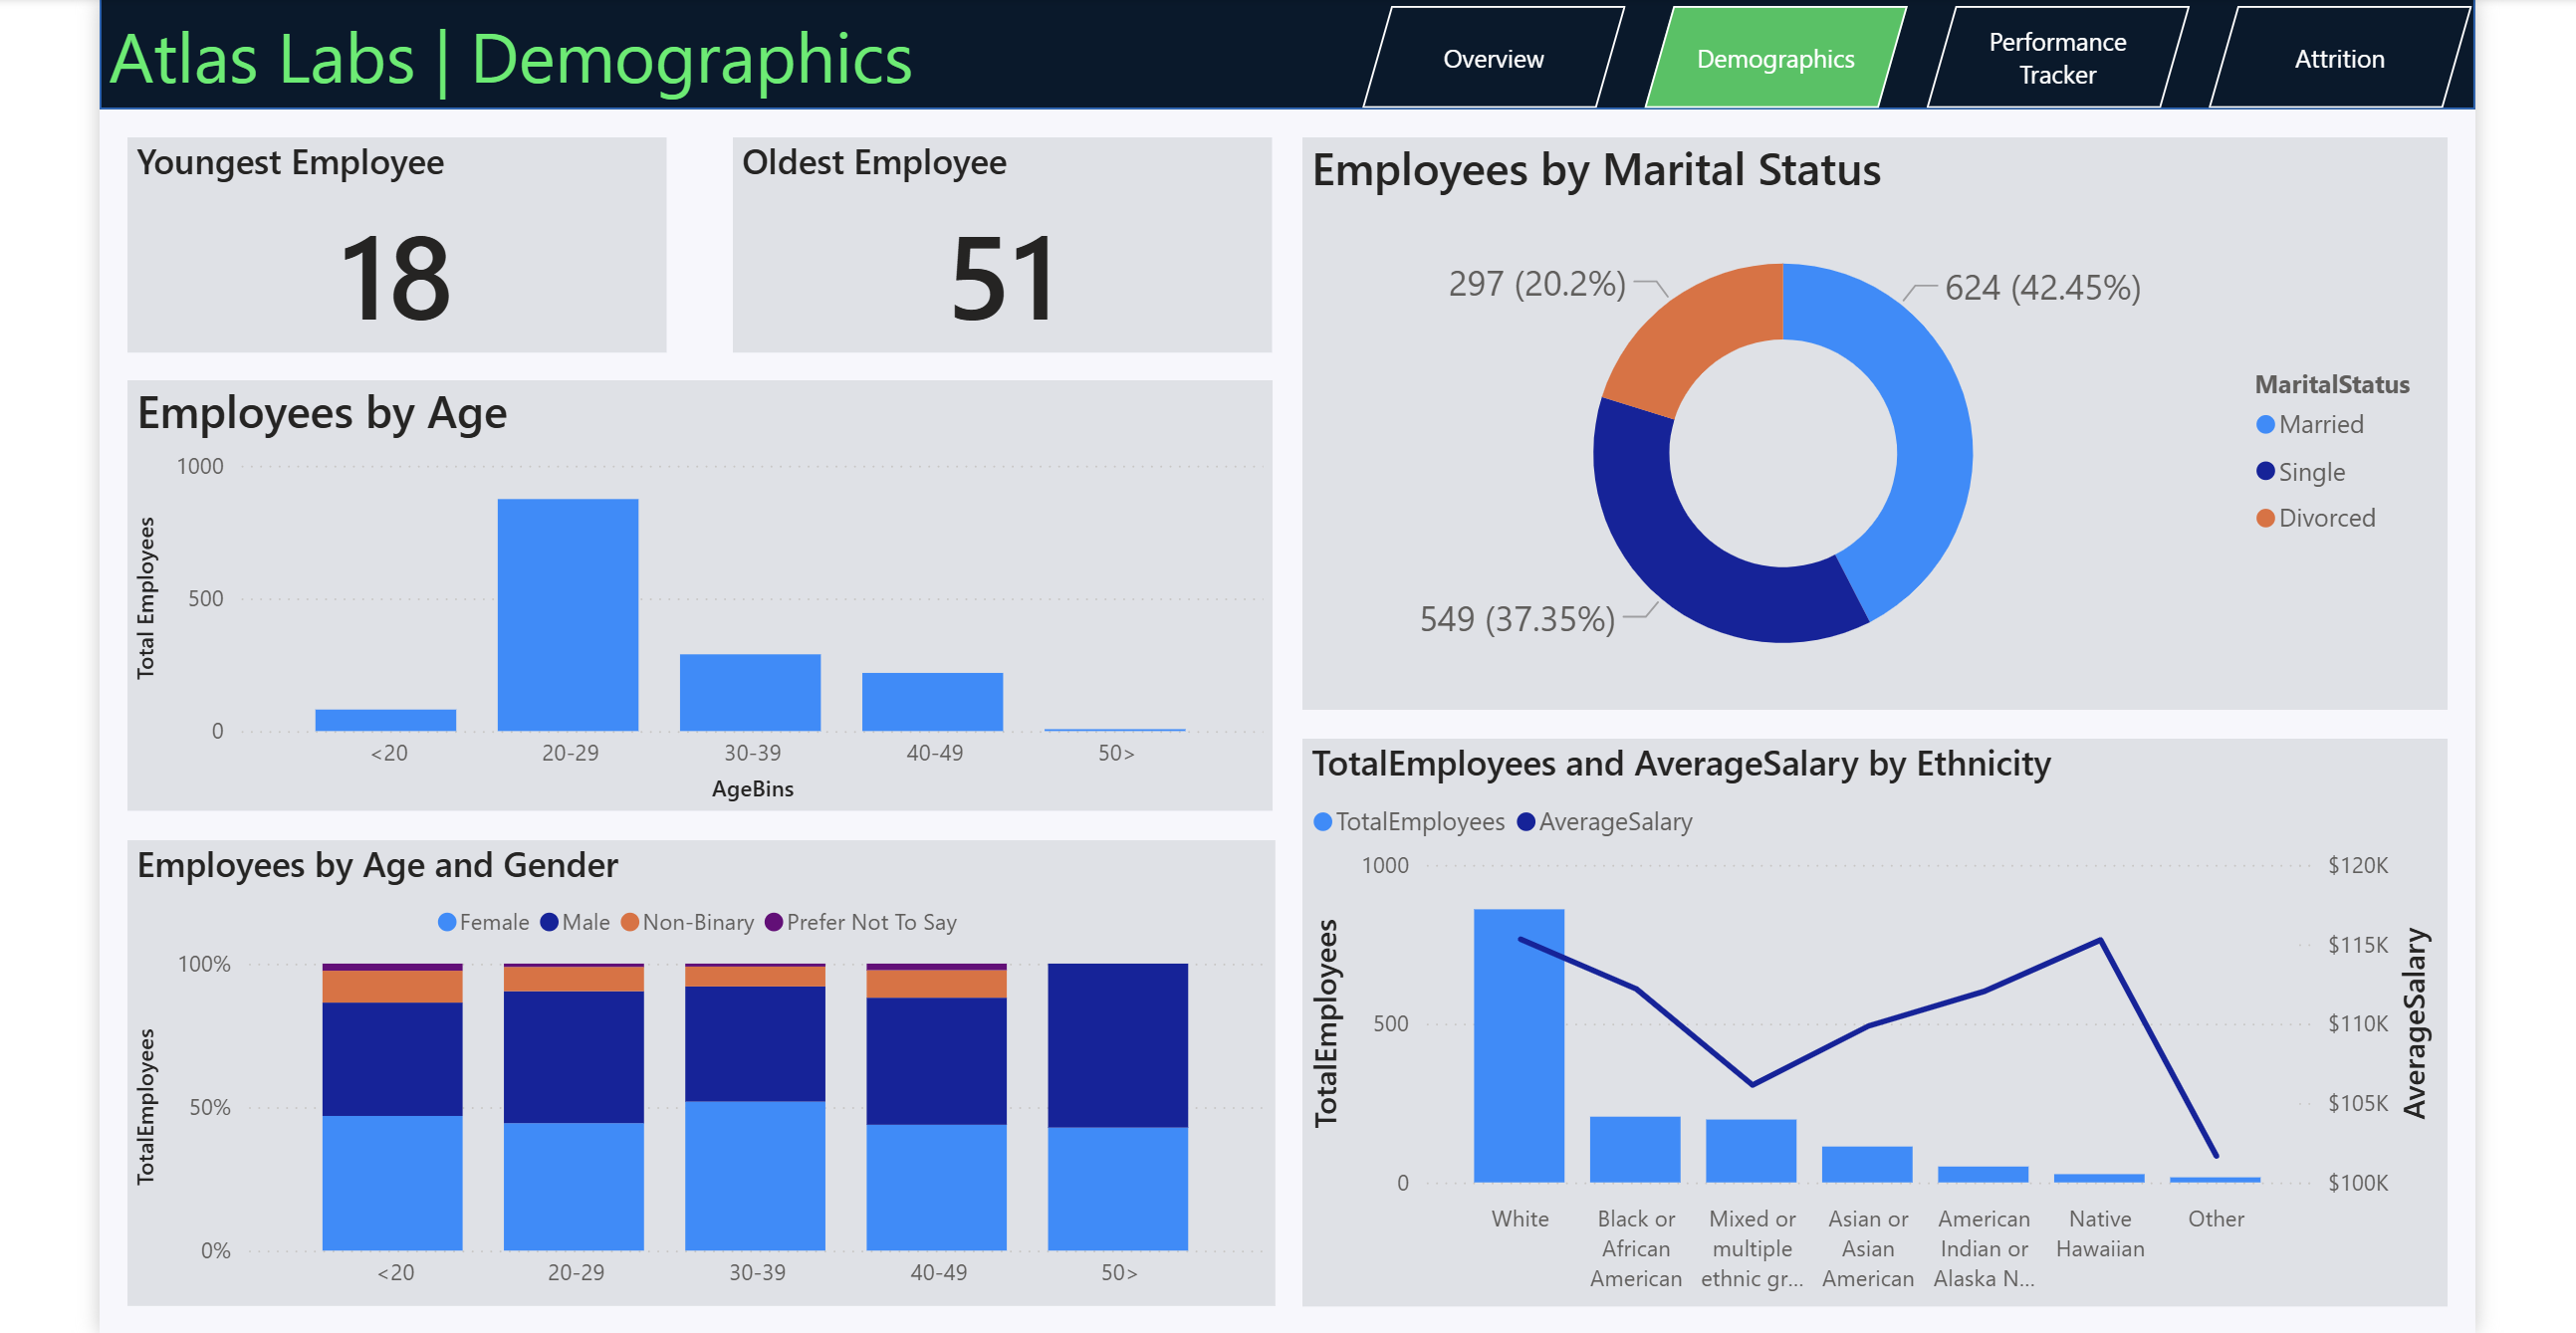

This screenshot's page, from the dashboard's own definition file:
{"tool":"powerbi","page":{"name":"Demographics","canvas":[1280,720],"ordinal":1},"visuals":[{"type":"clusteredColumnChart","title":"Employees by Age","fields":{"Y":["_Measures.TotalEmployees"],"Category":["DimEmployee.AgeBins"]},"box":[15.3,206.5,617.1,232],"z":0},{"type":"donutChart","title":"Employees by Marital Status","fields":{"Category":["DimEmployee.MaritalStatus"],"Y":["_Measures.TotalEmployees"]},"box":[647.6,75.2,617.1,308.5],"z":1000},{"type":"lineClusteredColumnComboChart","fields":{"Y":["_Measures.TotalEmployees"],"Category":["DimEmployee.Ethnicity"],"Y2":["_Measures.AverageSalary"]},"box":[647.6,399,617.1,306],"z":2000},{"type":"card","title":"Youngest Employee","fields":{"Values":["Min(DimEmployee.Age)"]},"box":[15.3,75.2,290.7,116],"z":3000},{"type":"card","title":"Oldest Employee","fields":{"Values":["Max(DimEmployee.Age)"]},"box":[341.7,75.2,290.7,116],"z":4000},{"type":"shape","box":[0,0,1280,60],"z":5000},{"type":"textbox","box":[0,0,1280,60.1],"z":6000},{"type":"hundredPercentStackedColumnChart","title":"Employees by Age and Gender","fields":{"Category":["DimEmployee.AgeBins"],"Series":["DimEmployee.Gender"],"Y":["_Measures.TotalEmployees"]},"box":[15.3,453.9,618.3,251.2],"z":7000},{"type":"pageNavigator","box":[680.1,4.5,599.9,55.7],"z":8000}]}

Visuals, with their boxes on the page's 1280x720 design canvas (x1, y1, x2, y2). These are canvas units, not pixel positions in the 2576x1333 screenshot, which may show the page scaled, cropped or inside an application window:
"Employees by Age" clusteredColumnChart: select_region(15, 206, 632, 438)
"Employees by Marital Status" donutChart: select_region(648, 75, 1265, 384)
lineClusteredColumnComboChart - _Measures.TotalEmployees x DimEmployee.Ethnicity: select_region(648, 399, 1265, 705)
"Youngest Employee" card: select_region(15, 75, 306, 191)
"Oldest Employee" card: select_region(342, 75, 632, 191)
shape: select_region(0, 0, 1280, 60)
textbox: select_region(0, 0, 1280, 60)
"Employees by Age and Gender" hundredPercentStackedColumnChart: select_region(15, 454, 634, 705)
pageNavigator: select_region(680, 4, 1280, 60)
